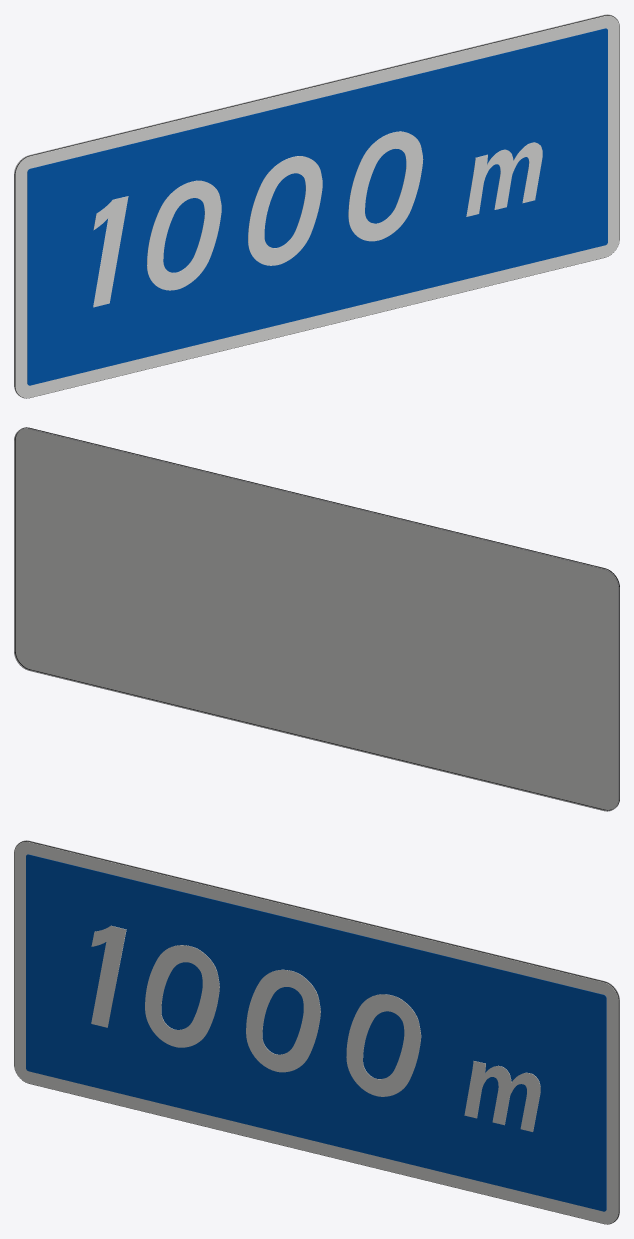
3 renders of one model, top to bottom at view 1: azimuth 30°, elevation 25°; view 2: azimuth 150°, elevation 25°; view 3: azimuth 330°, elevation 25°, orthographic.
Visible parts, largest first — view 1: D47c_p02, D47c_p01, D47c_p03, D47c_p00, D47c_dos; view 2: D47c_p01, D47c_dos, D47c_p00; view 3: D47c_p02, D47c_p01, D47c_p03, D47c_p00, D47c_dos.
Part boxes in pixels (left/top/right/bottom): D47c_p02: left=27, top=28, right=607, bottom=385; D47c_p01: left=15, top=15, right=619, bottom=398; D47c_p03: left=93, top=131, right=542, bottom=307; D47c_p00: left=14, top=15, right=619, bottom=398; D47c_dos: left=14, top=14, right=612, bottom=393; D47c_p01: left=15, top=429, right=618, bottom=809; D47c_dos: left=14, top=428, right=619, bottom=811; D47c_p00: left=15, top=427, right=619, bottom=810; D47c_p02: left=26, top=854, right=606, bottom=1211; D47c_p01: left=14, top=841, right=618, bottom=1224; D47c_p03: left=91, top=925, right=540, bottom=1131; D47c_p00: left=14, top=841, right=619, bottom=1224; D47c_dos: left=20, top=840, right=619, bottom=1219.
Size of the model in its own units: 0.7 by 0.2679 by 0.0031.
